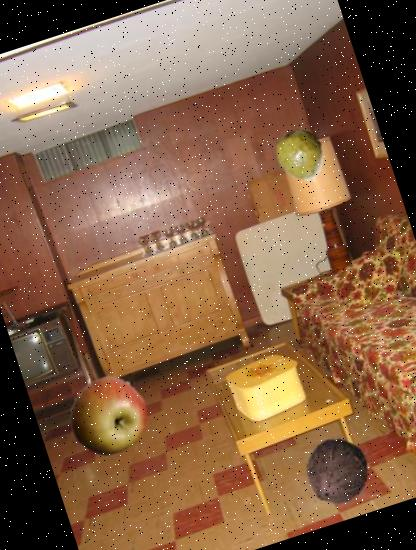Apple: (58, 365, 159, 466)
Cocos: (294, 426, 380, 514)
Guava: (268, 120, 336, 189)
